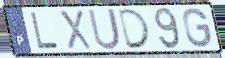9: (152, 6, 182, 51)
D: (117, 7, 153, 51)
G: (182, 7, 213, 49)
L: (29, 11, 61, 50)
U: (86, 7, 123, 52)
X: (57, 9, 94, 51)
